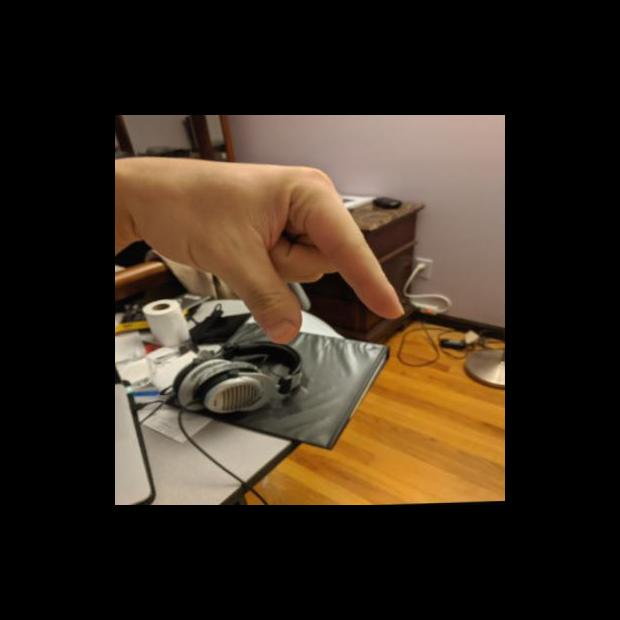P: (132, 146, 410, 351)
